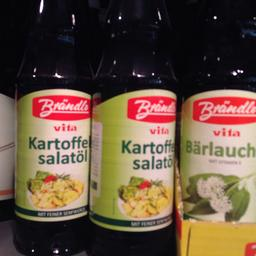oil: (89, 0, 178, 255), (12, 1, 90, 255), (180, 0, 254, 222)
